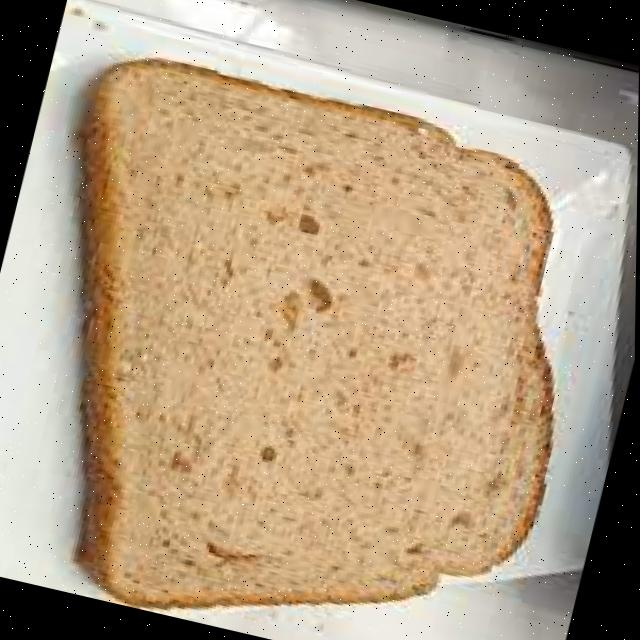Bread: (80, 59, 552, 608)
